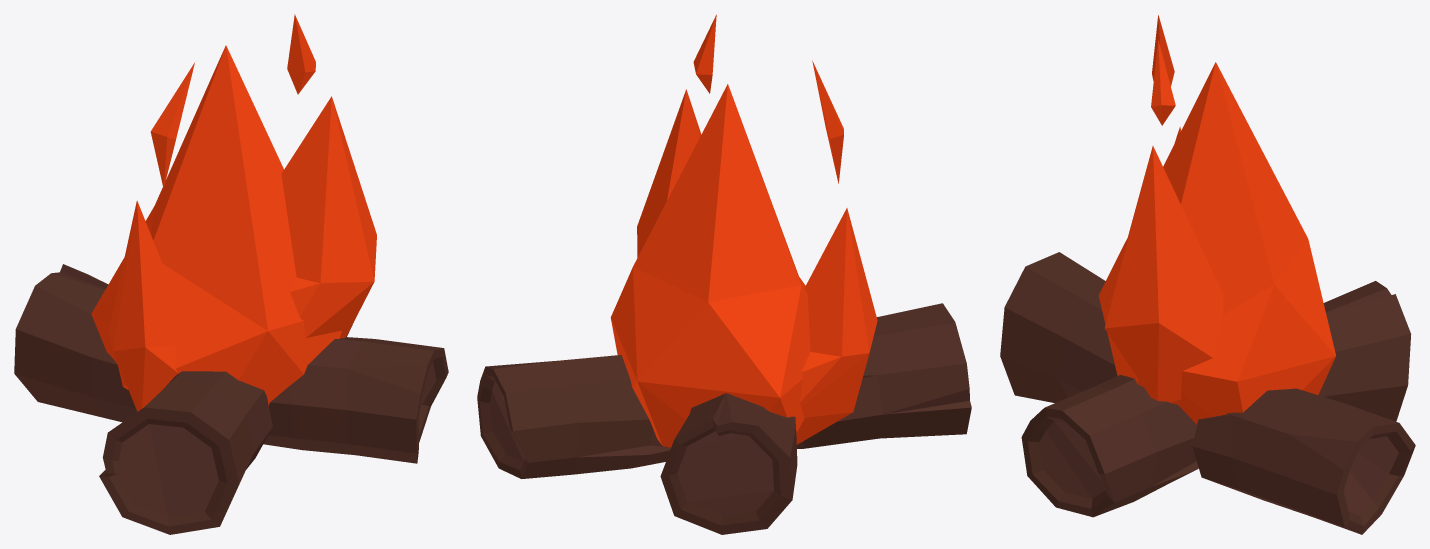
Rendered from Survival_Bonfire_Fire.glb.
3 views of the same model, side by side, from view 1: azimuth 30°, elevation 25°; view 2: azimuth 150°, elevation 25°; view 3: azimuth 270°, elevation 25° (orthographic). The views are drawn at different scales.
Parts seen in each view (by area): view 1: Bonfire_Fire; view 2: Bonfire_Fire; view 3: Bonfire_Fire.
Part boxes in pixels (x1,y1,x2,y2): Bonfire_Fire: (14,14,448,534); Bonfire_Fire: (477,14,971,534); Bonfire_Fire: (1000,15,1415,534).
Size of the model in its own units: 218 by 231 by 198.
